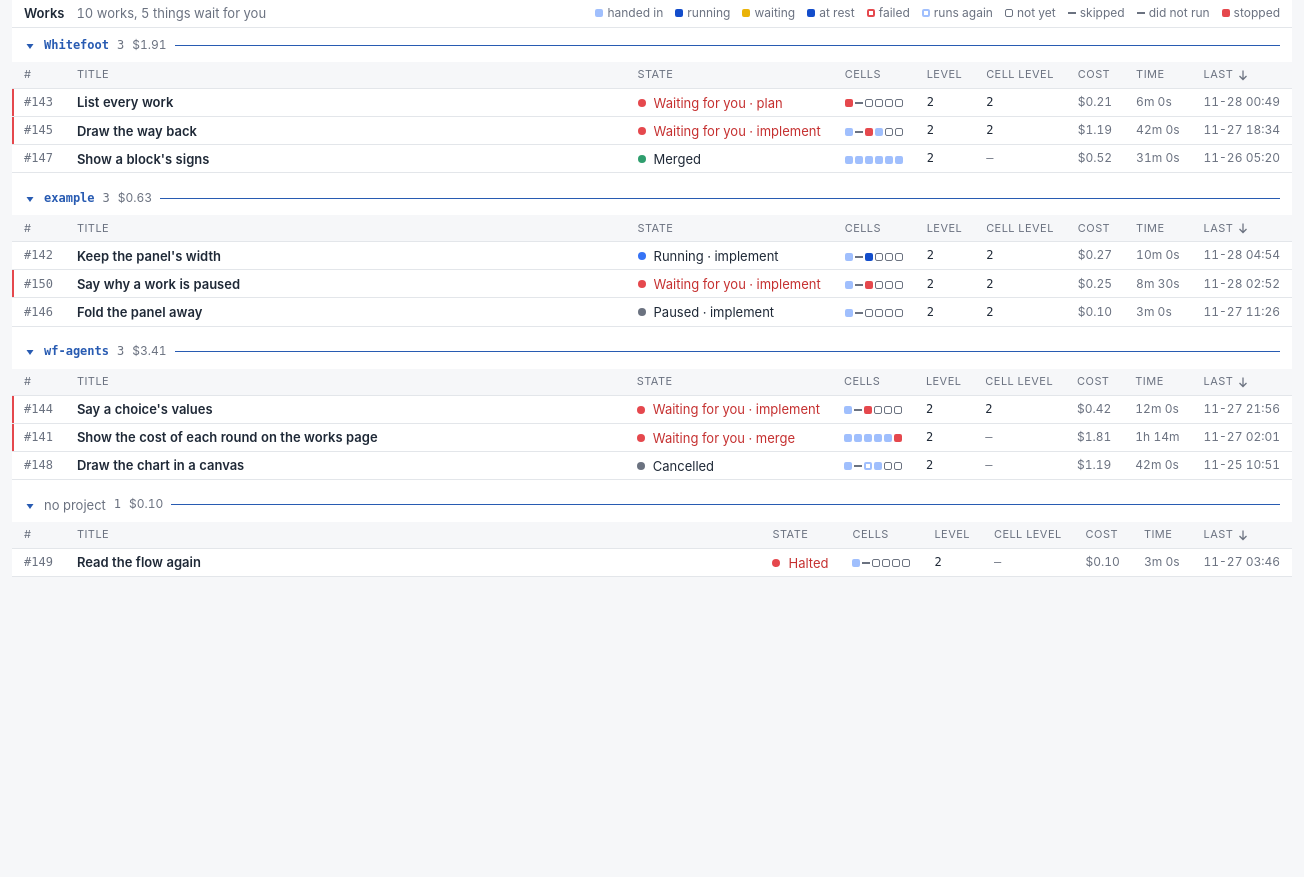
the list of works › folds a group away at a press on its head and opens it again at the next, and keeps which are folded in the browser
This screenshot has width=1304, height=877.
Later steps or results of the test are not shown.
Click the button "example 3 $0.63".
click(69, 198)  # box [20,185,1284,211]
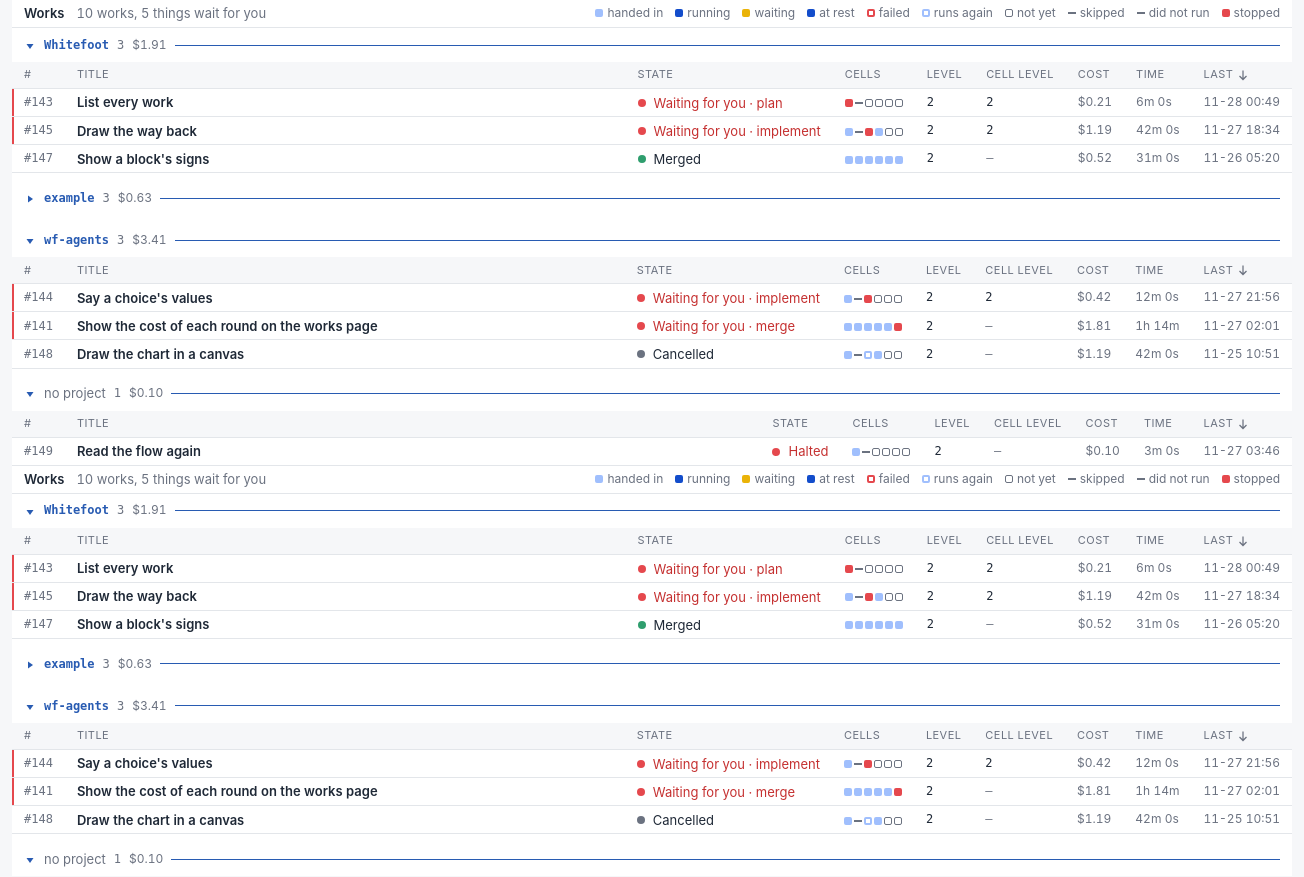
Check: the 1st button "example 3 $0.63" is collapsed, box [20,185,1284,211]
